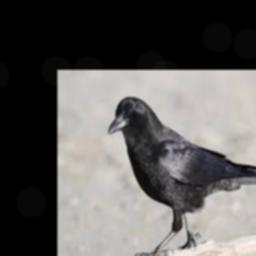Crow: (109, 97, 256, 256)
